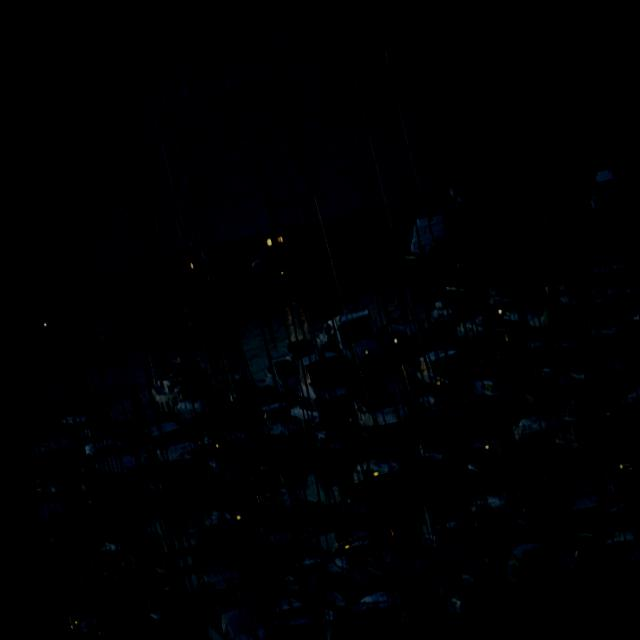Vehicle: (311, 226, 370, 256), (246, 242, 291, 276)
